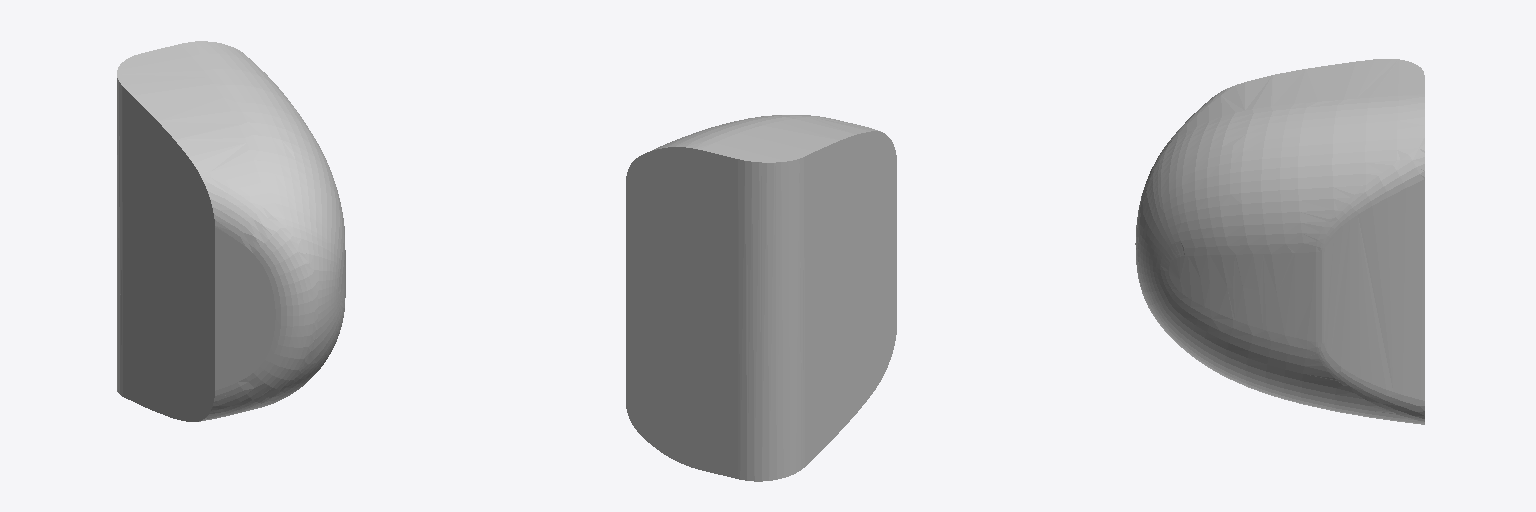
Rendered from rl_dg_5_tip_c_mesh.obj.
The picture shows the model from 3 angles: view 1: azimuth 30°, elevation 25°; view 2: azimuth 150°, elevation 25°; view 3: azimuth 270°, elevation 25°; orthographic projection.
Bounding box in the file's own units: 0.012 × 0.0215 × 0.0176.